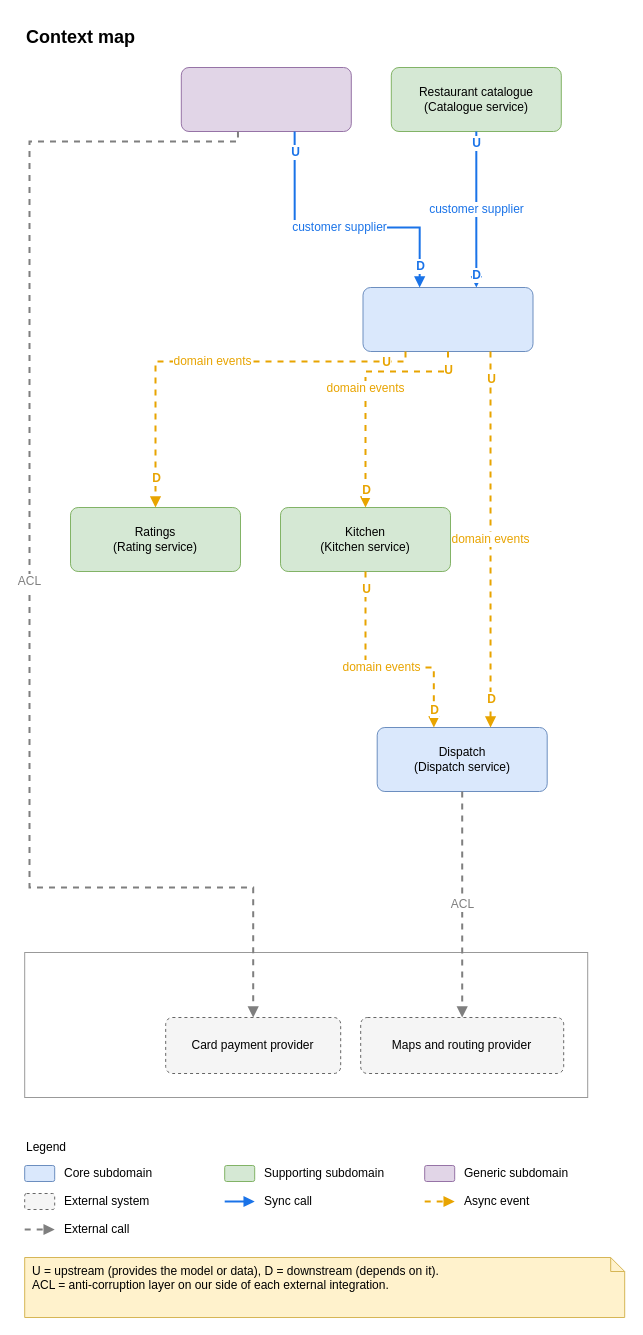
The diagram is 643 pixels wide and 1335 high, and some of its shapes have lost their labels. The box of each missing label's shape, as (x1, y1, x2, y2) in pixels:
External systems: (24, 952, 588, 1098)
Ordering (Order service): (362, 286, 533, 352)
Payments (Payment service): (180, 66, 351, 132)
